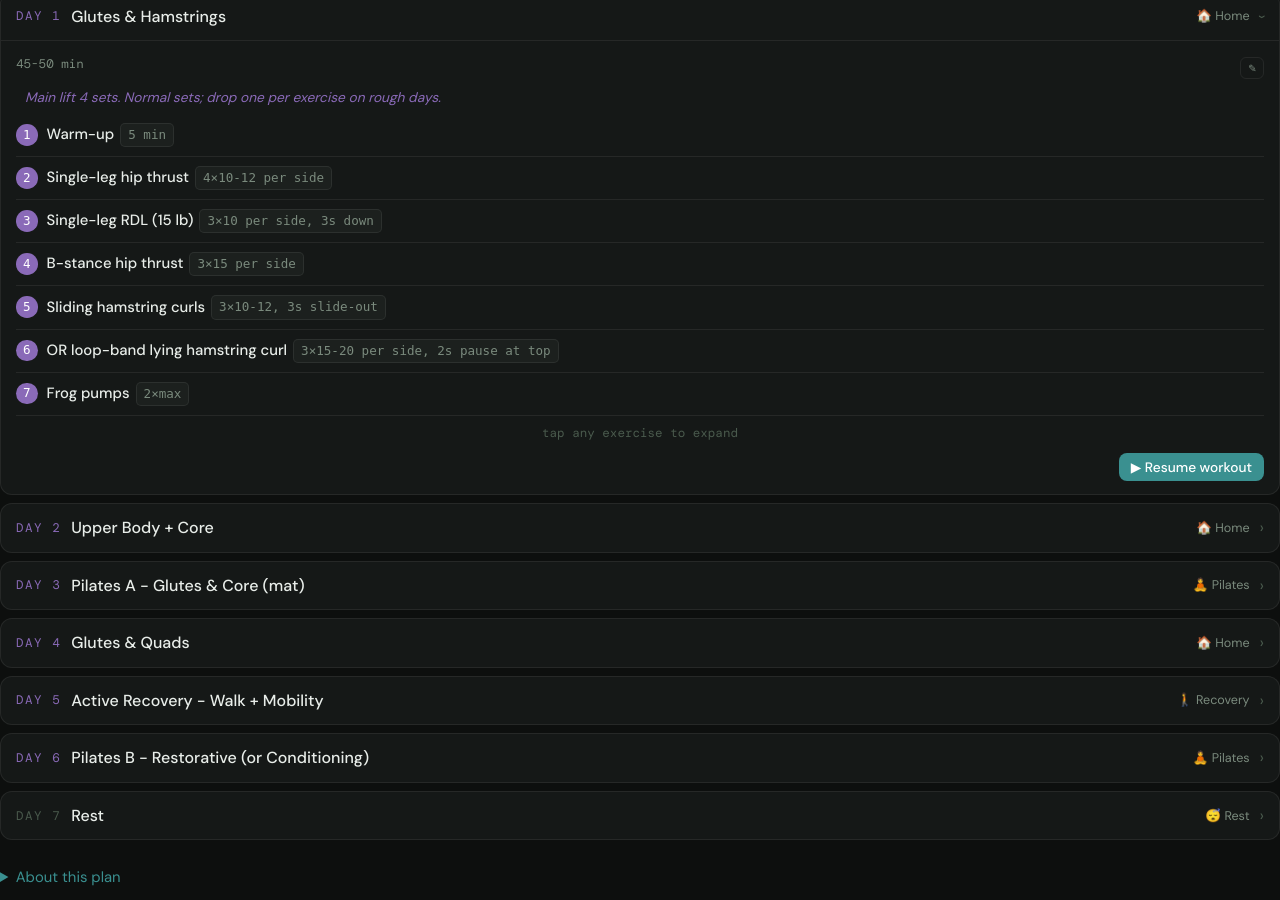
Test: WorkoutLogger › timed exercises log seconds instead of reps and kg
This screenshot has width=1280, height=900.
(page scrolled)
Click the button "▶ Resume workout" at (1191, 467), box left=1119, top=453, right=1264, bottom=481
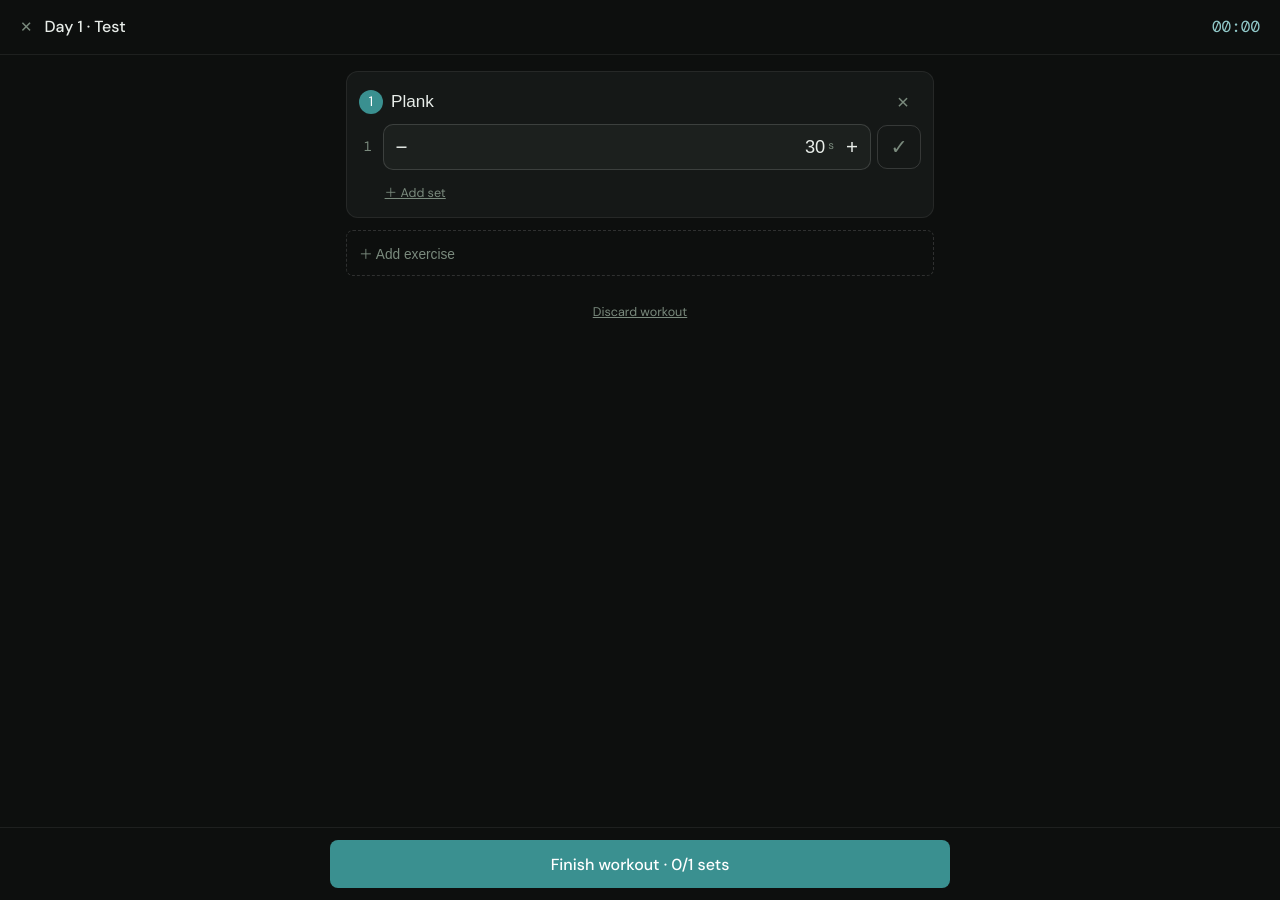
Click the button named "More Set 1 seconds" at (852, 147), box left=834, top=125, right=870, bottom=169
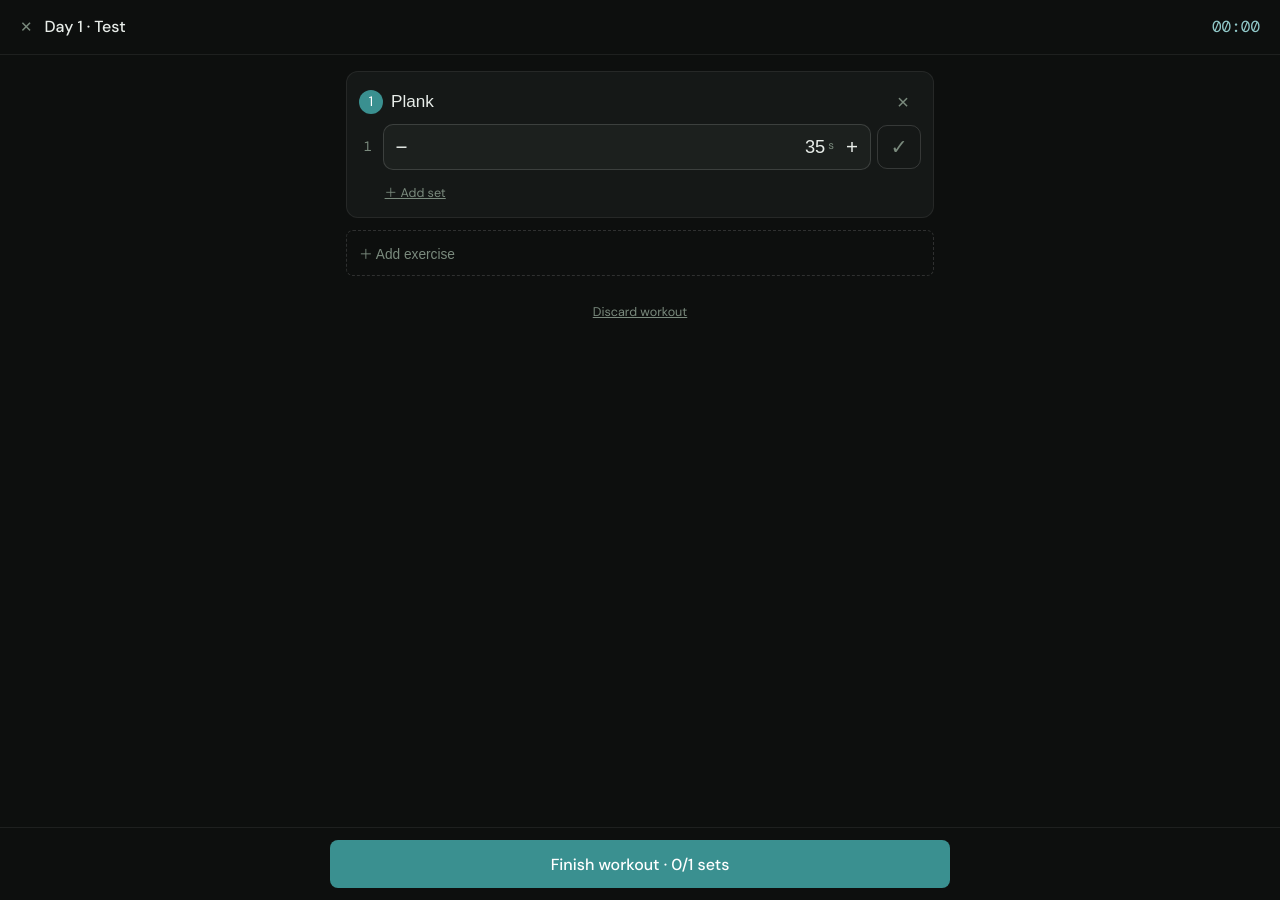
Result: the field named "Set 1 seconds" holds "35" at left=420, top=136, right=825, bottom=158
